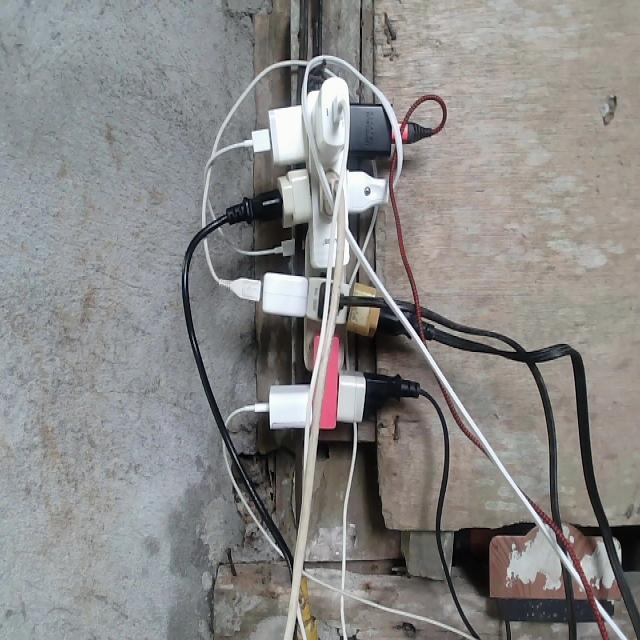-: (221, 77, 448, 432)
